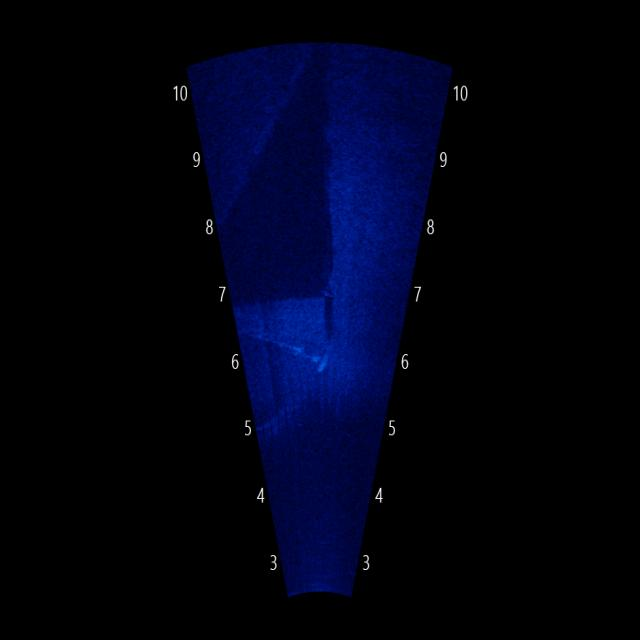triangle: (259, 276, 351, 377)
